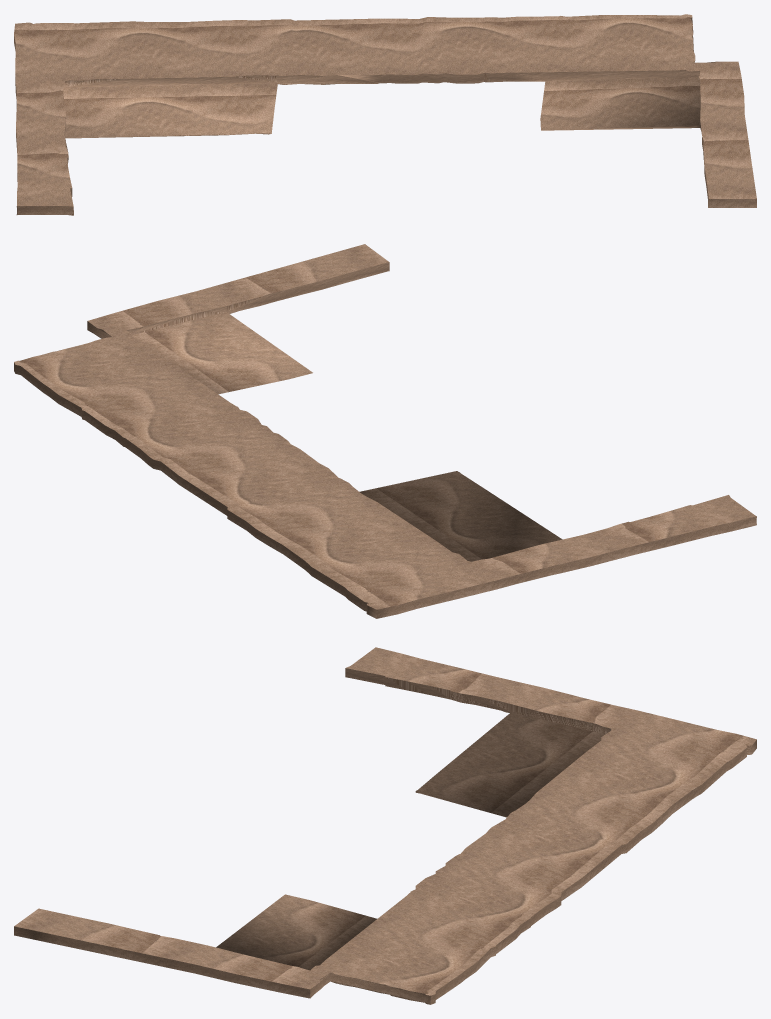
3 views of the same model, one above another, from view 1: azimuth 30°, elevation 25°; view 2: azimuth 150°, elevation 25°; view 3: azimuth 270°, elevation 25° (orthographic).
Parts seen in each view (by area): view 1: Q4; view 2: Q4; view 3: Q4.
Part boxes in pixels (left/top/right/bottom): Q4: left=14, top=14, right=756, bottom=215; Q4: left=14, top=244, right=756, bottom=618; Q4: left=14, top=647, right=756, bottom=1004.
Bounding box in the file's own units: 1644 × 20 × 1480.
1 material, 1 textured.
